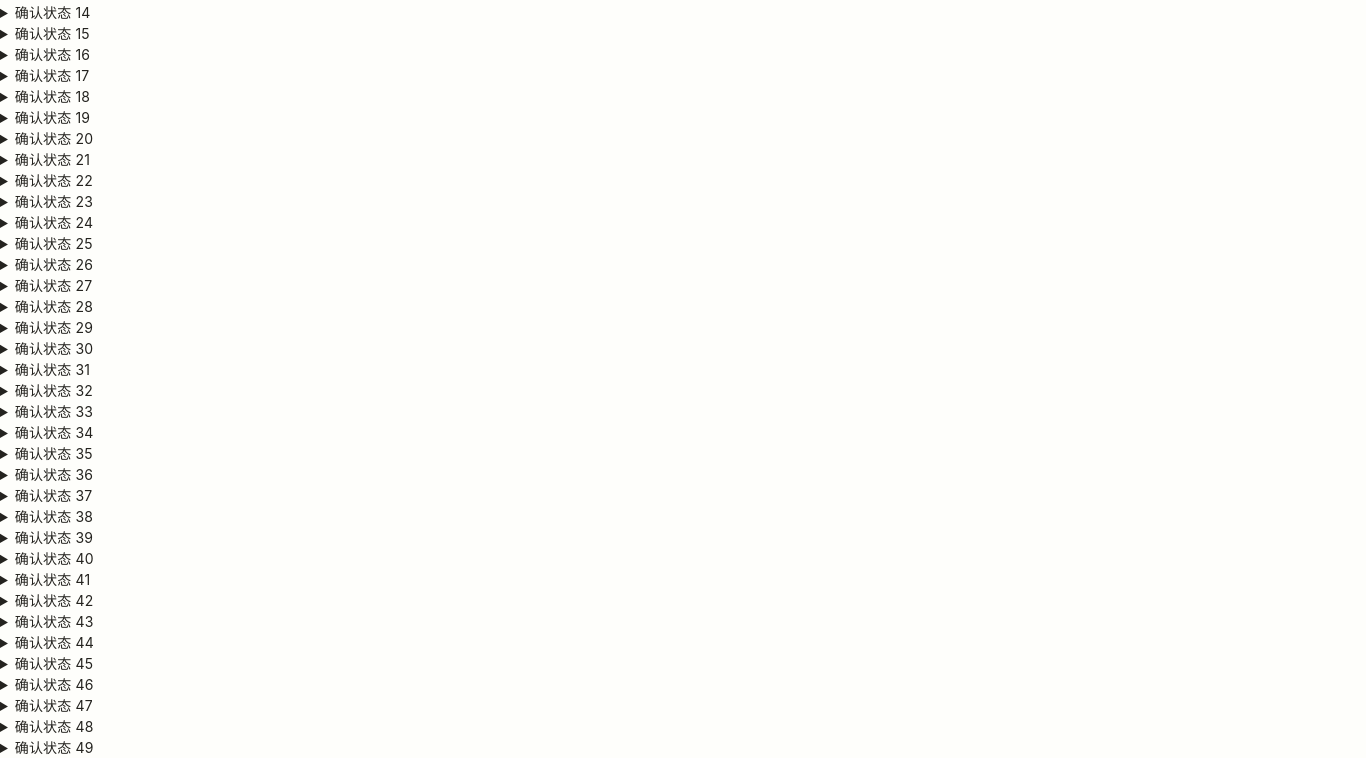
Scenario: 紧急通知确认进度 › 50 个折叠详情不请求，只有展开项挂载查询
This screenshot has width=1366, height=758.
(page scrolled)
Click the heading "确认状态 49" at {"x": 54, "y": 748}, box [15,739,94,756]
(page scrolled)
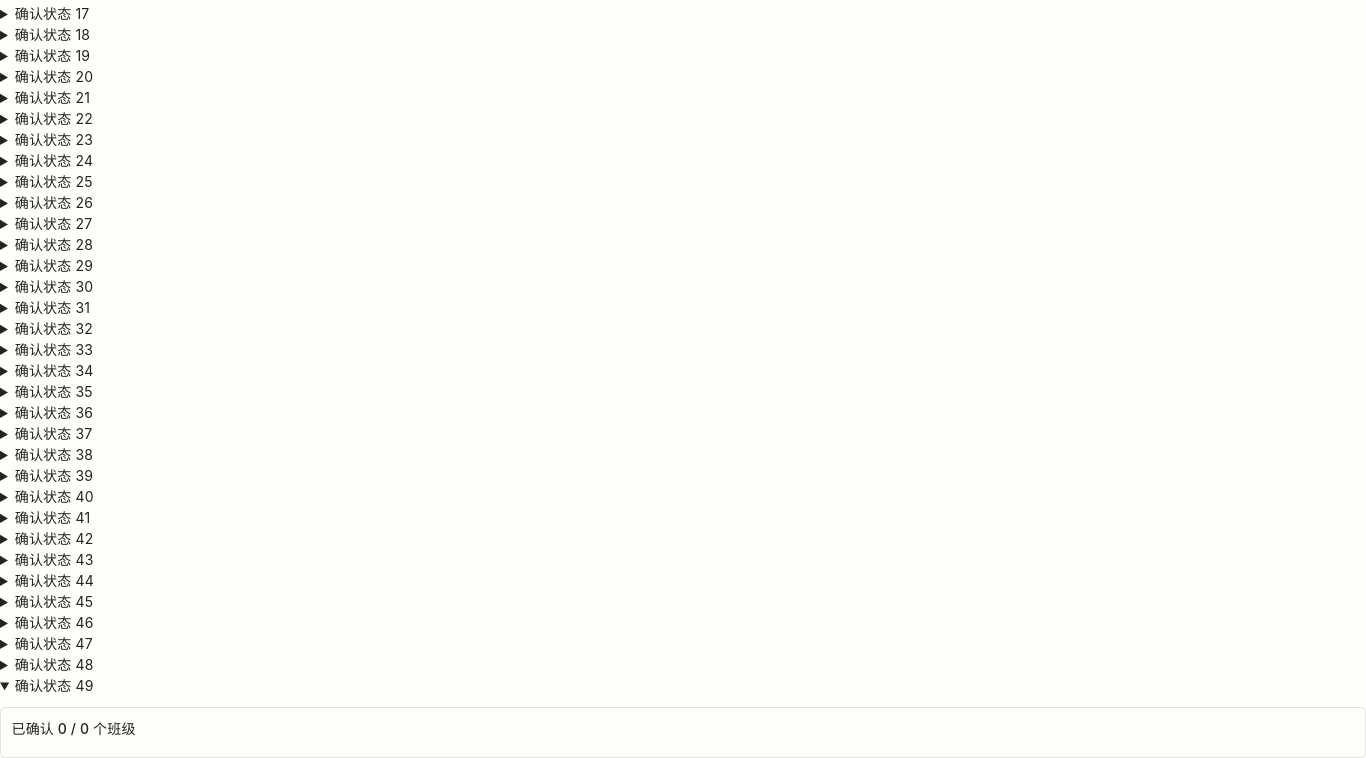
expect the text "已确认 0 / 0 个班级" is shown: met, box [12,720,136,737]
